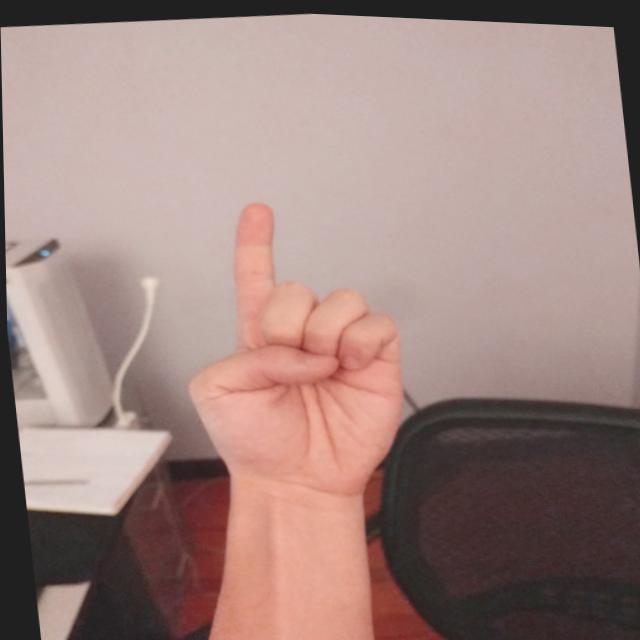D: (160, 180, 423, 521)
